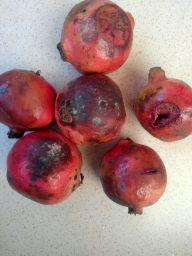pomegranate: (7, 131, 84, 207), (58, 0, 135, 75), (99, 138, 169, 216), (54, 74, 126, 146), (132, 67, 192, 142), (0, 68, 56, 137)
